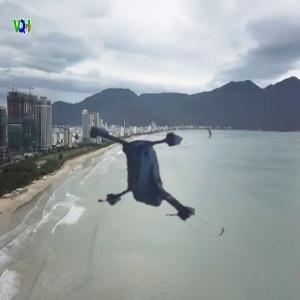drone: (90, 107, 236, 253)
